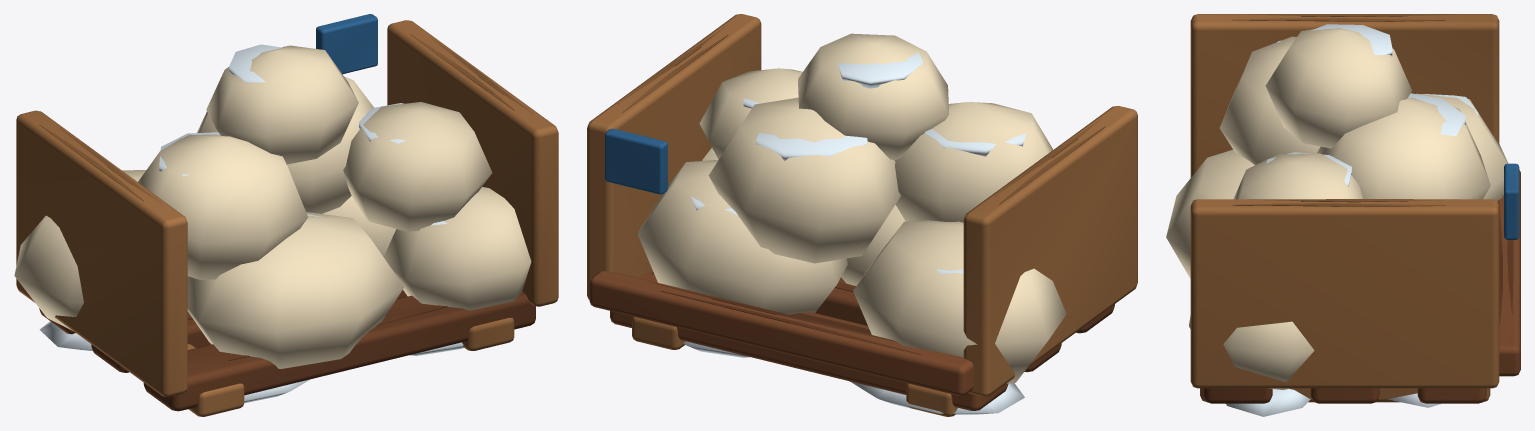
File: stone_stack.glb
3 views of the same model, side by side, from view 1: azimuth 30°, elevation 25°; view 2: azimuth 150°, elevation 25°; view 3: azimuth 270°, elevation 25° (orthographic). The views are drawn at different scales.
Visible parts, largest first — view 1: stone_stack; view 2: stone_stack; view 3: stone_stack.
Boxes of the visible parts, left/top/right/bottom form: stone_stack: left=14, top=14, right=558, bottom=416; stone_stack: left=587, top=14, right=1137, bottom=416; stone_stack: left=1166, top=14, right=1520, bottom=416.
Size of the model in its own units: 1.69 by 1.07 by 1.15.
